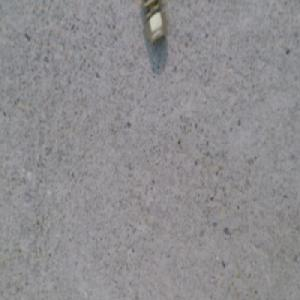BoltNutSet: (142, 3, 165, 54)
